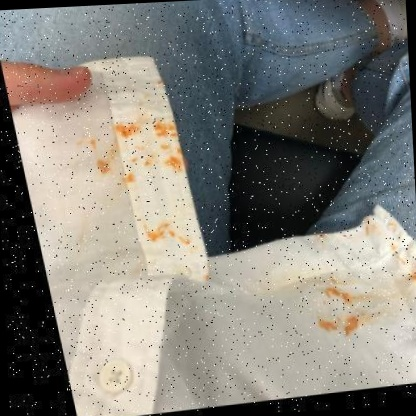kimchi: (113, 115, 179, 188), (143, 223, 193, 250), (316, 313, 366, 339), (326, 283, 364, 309), (391, 243, 413, 268), (92, 156, 114, 177), (80, 135, 101, 153), (323, 271, 340, 289), (363, 223, 380, 239), (387, 217, 400, 230), (408, 263, 416, 282), (201, 270, 214, 281), (317, 233, 331, 241), (338, 232, 349, 240)
